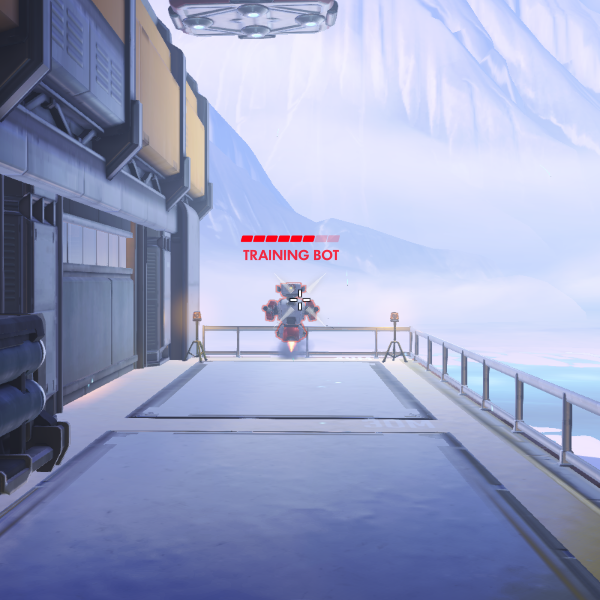hpbar: (241, 235, 340, 243)
